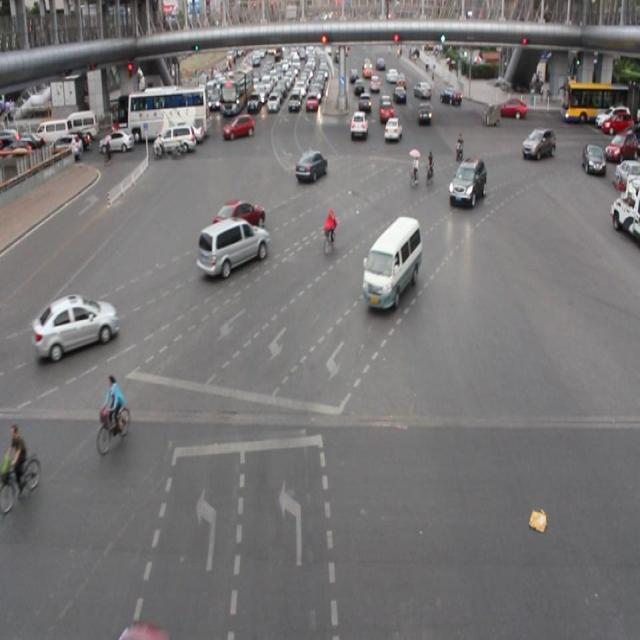car: (32, 291, 118, 361), (213, 198, 266, 239), (448, 156, 487, 209), (294, 148, 328, 187), (520, 127, 556, 162)
truck: (362, 214, 422, 313), (196, 215, 269, 276)
